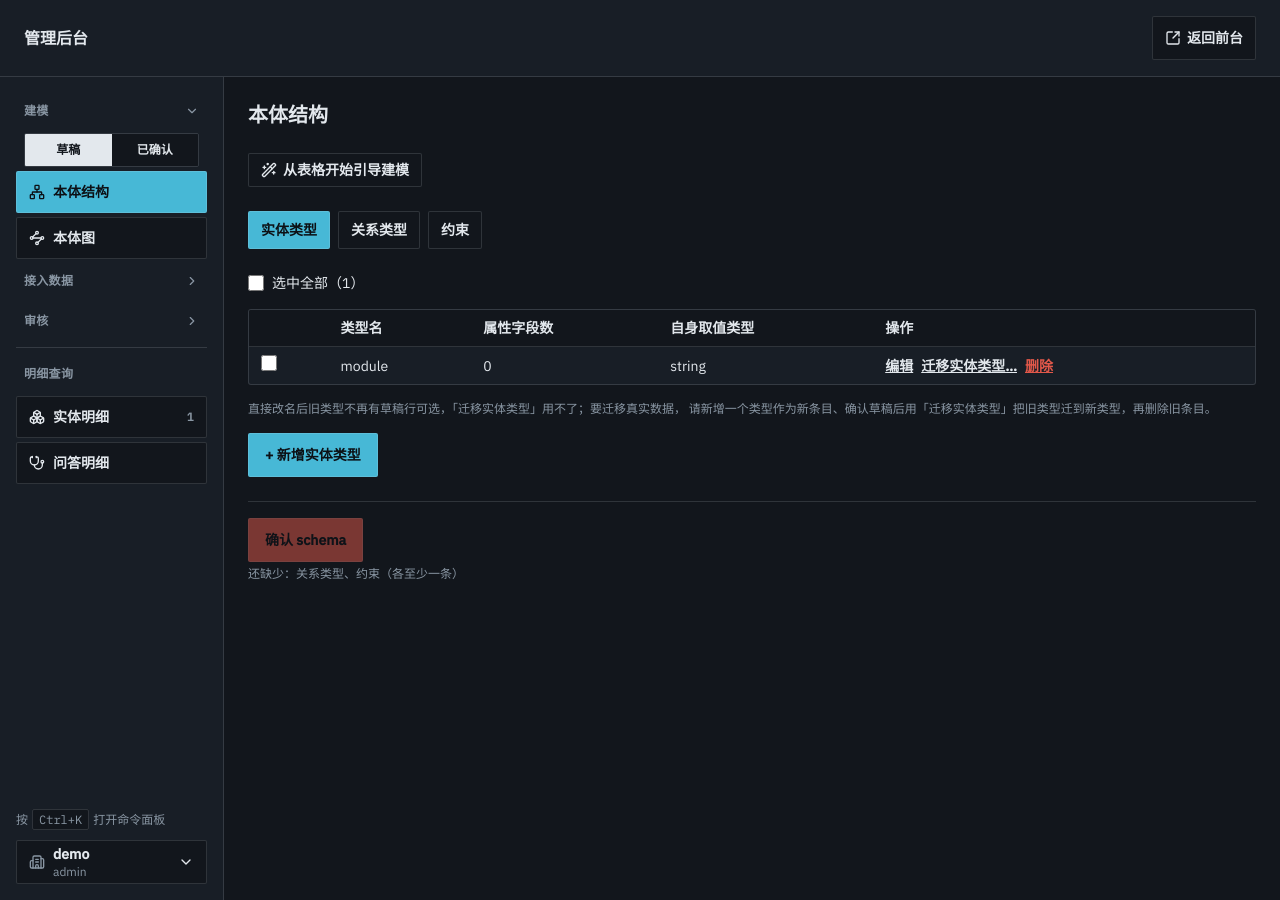
Test: 删除实体类型被占用时的出口 › 只被关系约束挡住时不给这条链接——实体明细里没东西可处理
The image size is (1280, 900).
Click the button "删除" at (1039, 366), box [1025,356,1053,376]
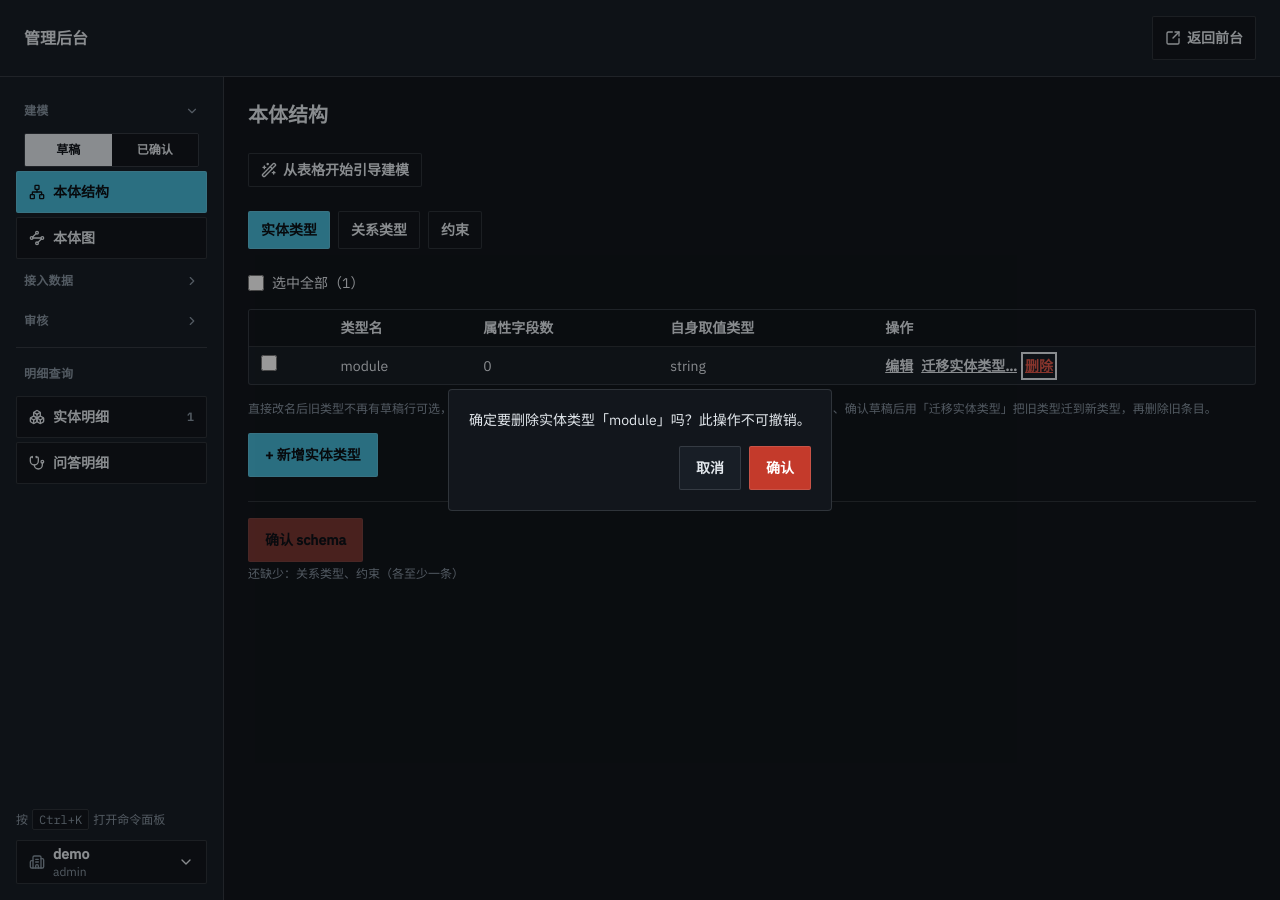
Click the button "确认" at (780, 468), box [749,446,811,490]
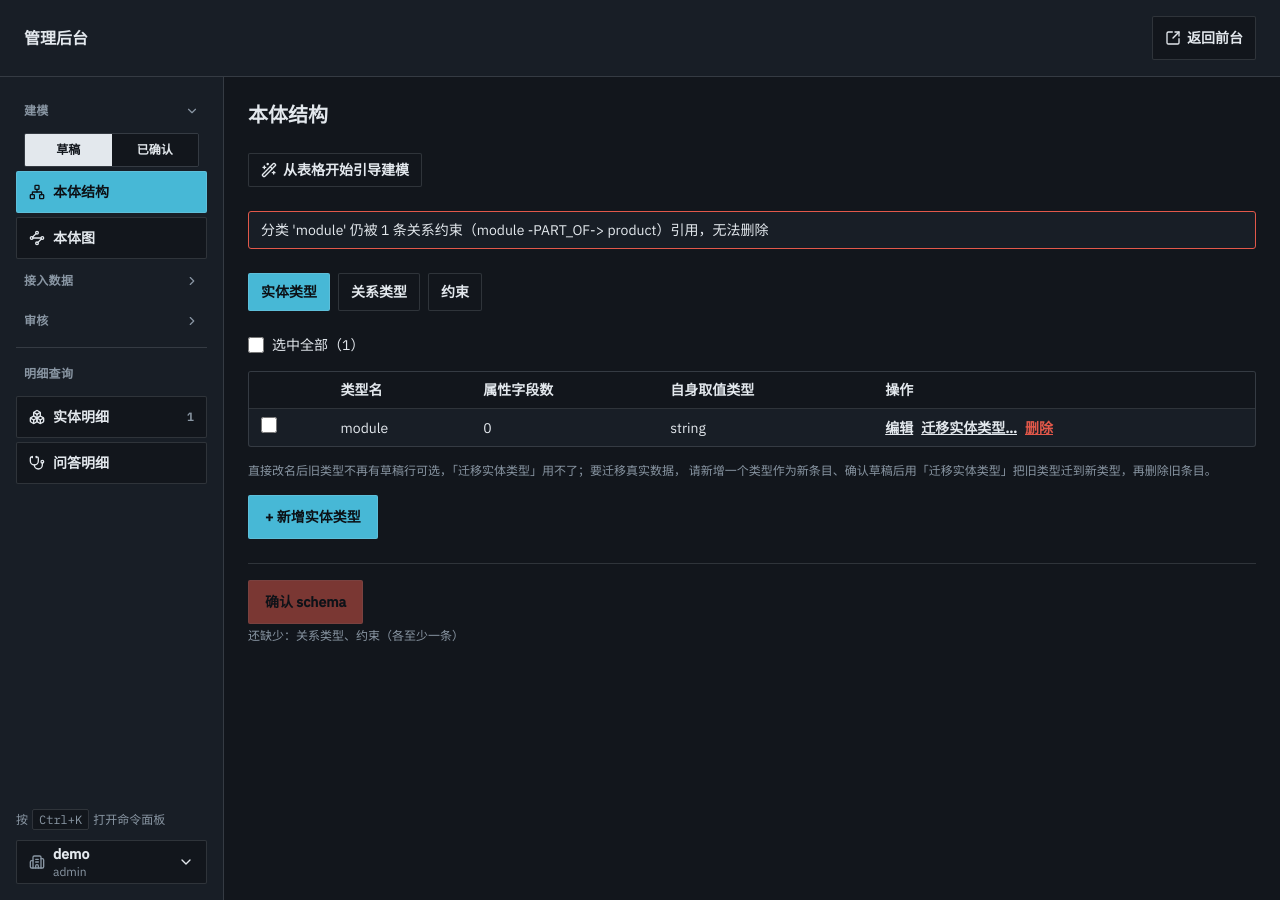
Check: the message shows "PART_OF", box [261,221,768,239]
